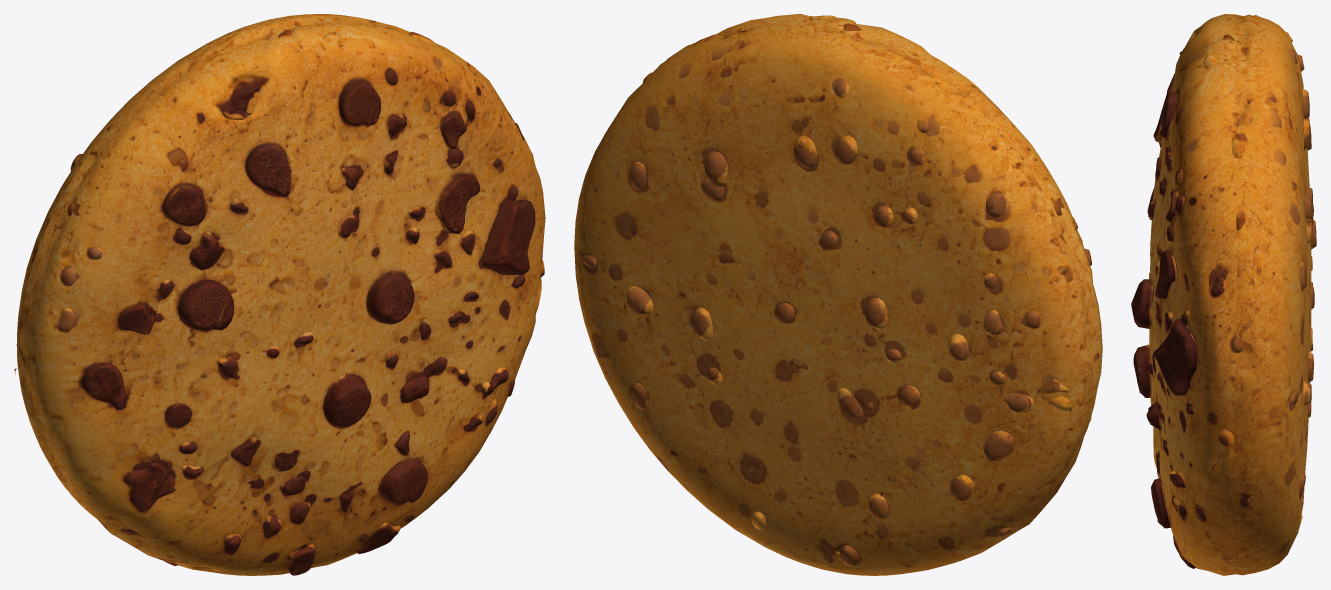
Rendered from cookie.glb.
The picture shows the model from 3 angles, left to right: view 1: azimuth 30°, elevation 25°; view 2: azimuth 150°, elevation 25°; view 3: azimuth 270°, elevation 25°; orthographic projection. The views are drawn at different scales.
Parts seen in each view (by area): view 1: tripo_50faf6a4_2778_455f_a804_d024d61bb72c; view 2: tripo_50faf6a4_2778_455f_a804_d024d61bb72c; view 3: tripo_50faf6a4_2778_455f_a804_d024d61bb72c.
Part boxes in pixels (x1,y1,x2,y2): tripo_50faf6a4_2778_455f_a804_d024d61bb72c: (14, 14, 545, 575); tripo_50faf6a4_2778_455f_a804_d024d61bb72c: (574, 14, 1102, 575); tripo_50faf6a4_2778_455f_a804_d024d61bb72c: (1131, 14, 1316, 575).
Size of the model in its own units: 0.9995 by 0.9995 by 0.3276.
Materials: 1 (1 with a texture image).
